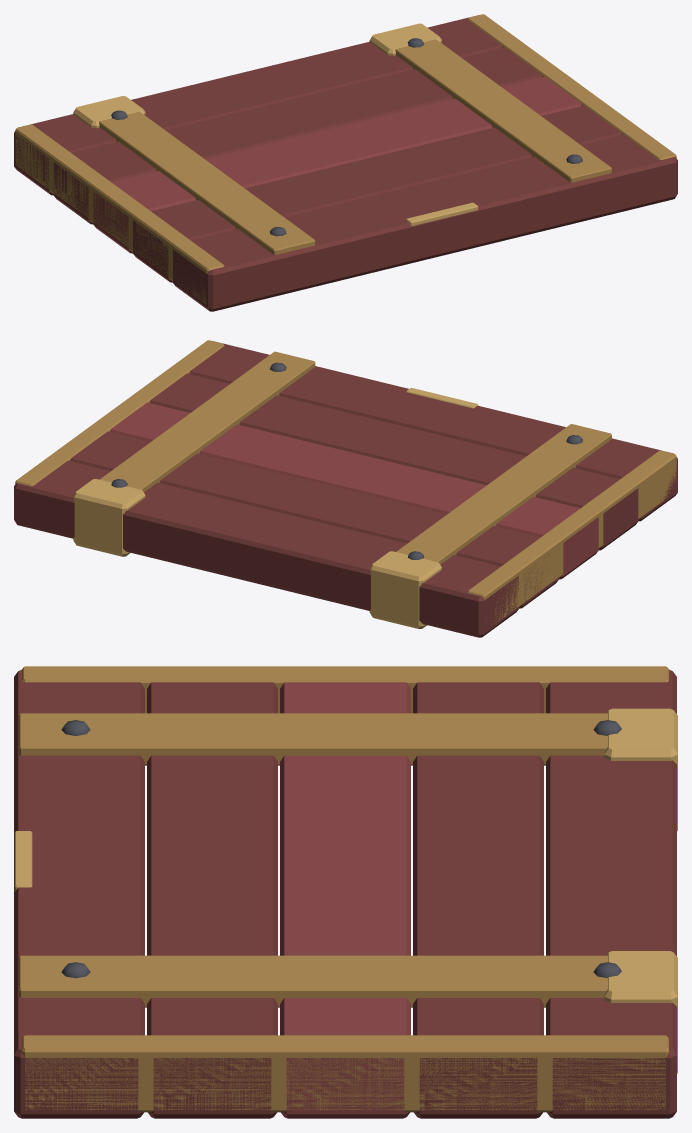
The model's file is chest_lid.glb.
3 views of the same model, one above another, from view 1: azimuth 30°, elevation 25°; view 2: azimuth 150°, elevation 25°; view 3: azimuth 270°, elevation 25° (orthographic). The views are drawn at different scales.
Visible parts, largest first — view 1: chest_lid; view 2: chest_lid; view 3: chest_lid.
Boxes of the visible parts, bbox=[...] form: chest_lid: bbox=[14, 14, 677, 311]; chest_lid: bbox=[14, 340, 677, 637]; chest_lid: bbox=[14, 666, 677, 1118].
Size of the model in its own units: 0.52 by 0.06 by 0.38.
